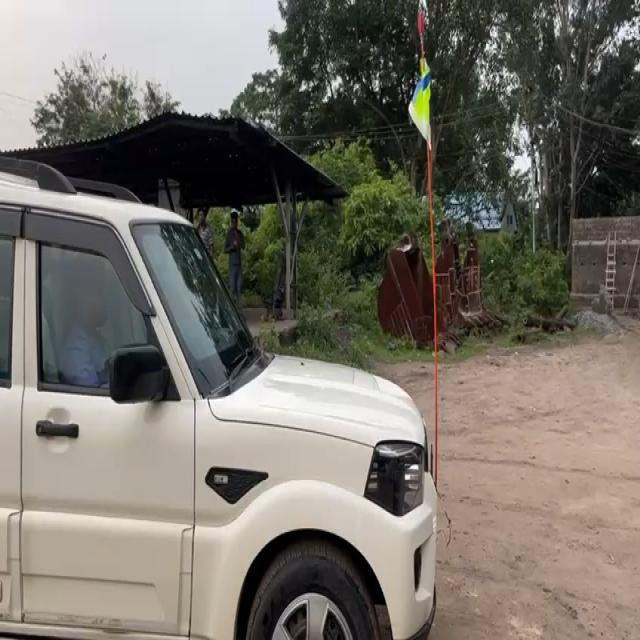light_vehicle: (0, 155, 434, 640)
